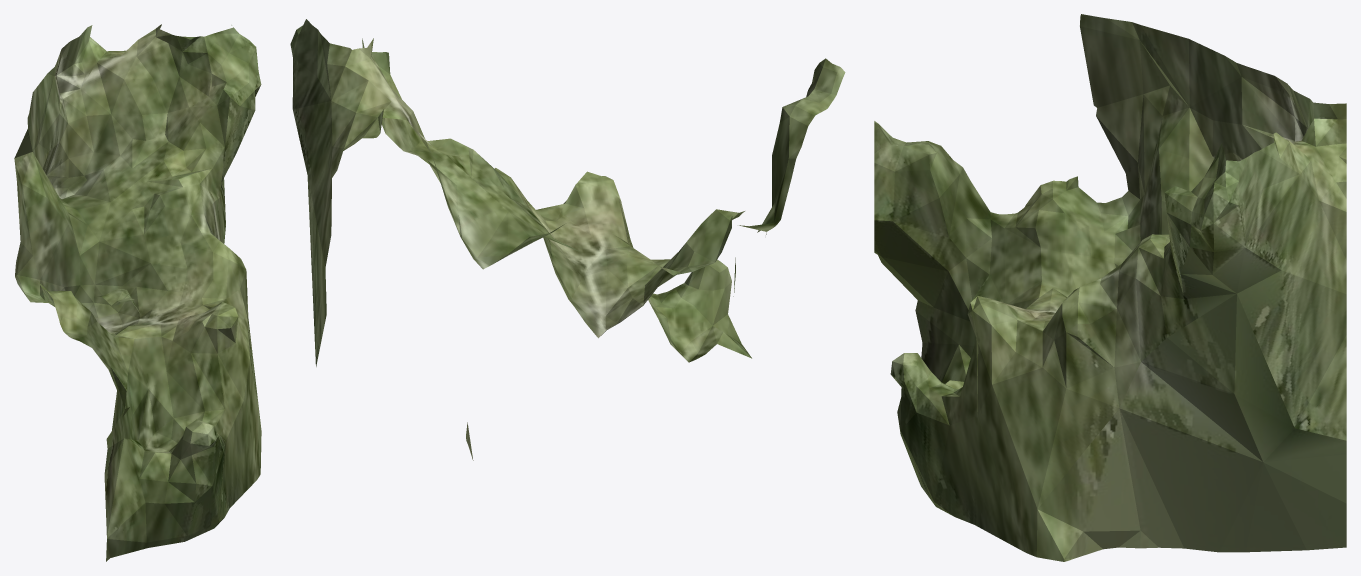
3 renders of one model, left to right at view 1: azimuth 30°, elevation 25°; view 2: azimuth 150°, elevation 25°; view 3: azimuth 270°, elevation 25°, orthographic. The views are drawn at different scales.
Bounding box in the file's own units: 2.33 × 2.95 × 2.95.
Materials: 4 (4 with a texture image).
